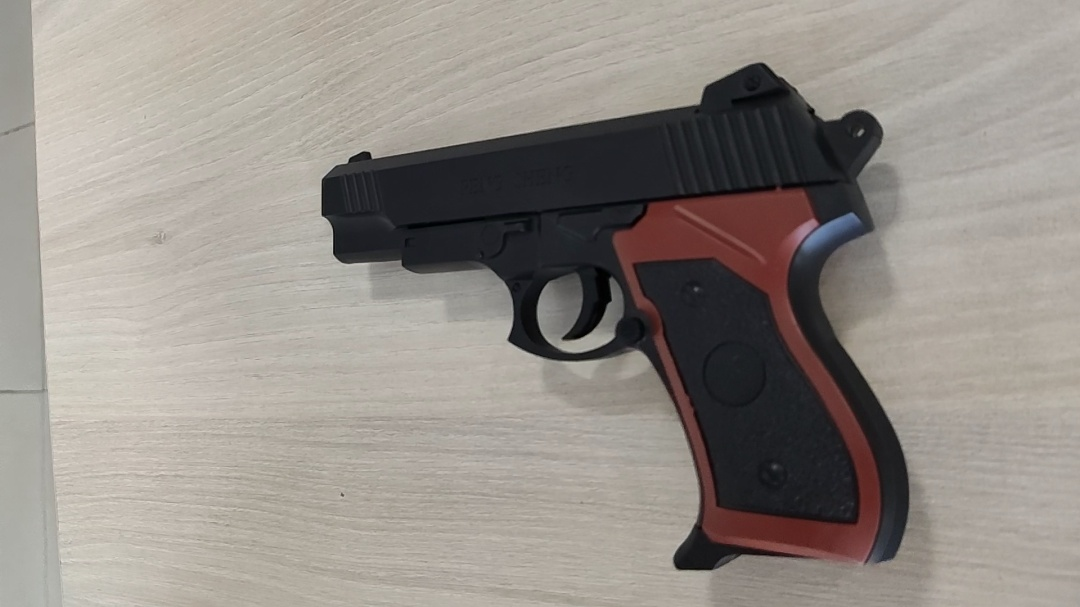gunw: (325, 58, 917, 575)
